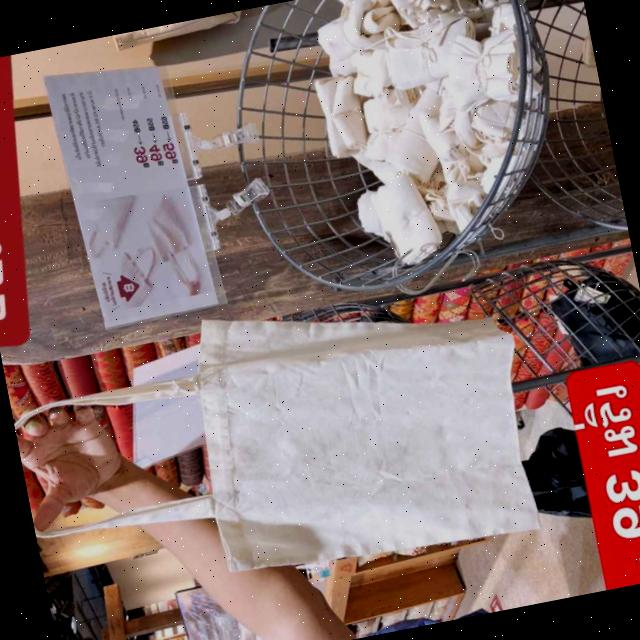Handbag: (168, 258, 550, 580)
